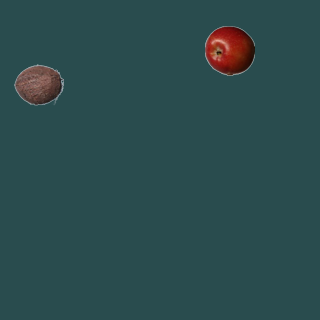Apple Braeburn: (204, 25, 254, 75)
Cocos: (13, 59, 63, 109)
